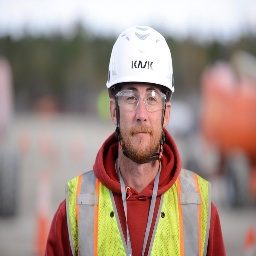helmet: (106, 28, 175, 95)
person: (44, 25, 225, 256)
vest: (51, 170, 216, 256)
